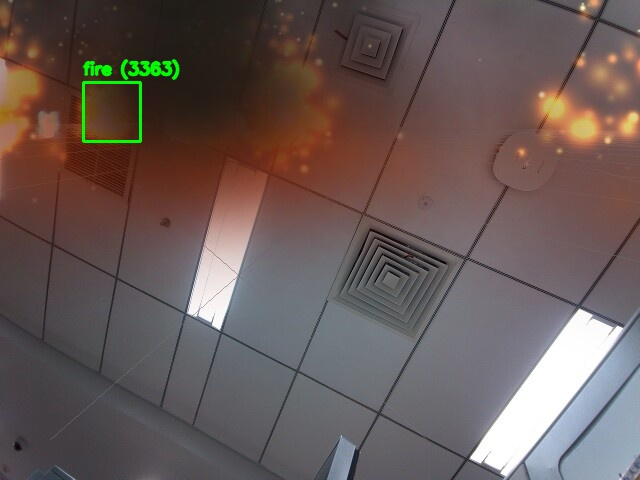fire: (83, 82, 140, 141)
